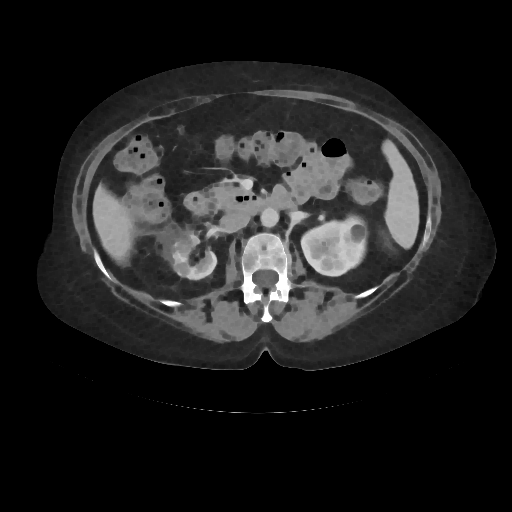Lesion: (348, 221, 370, 247)
